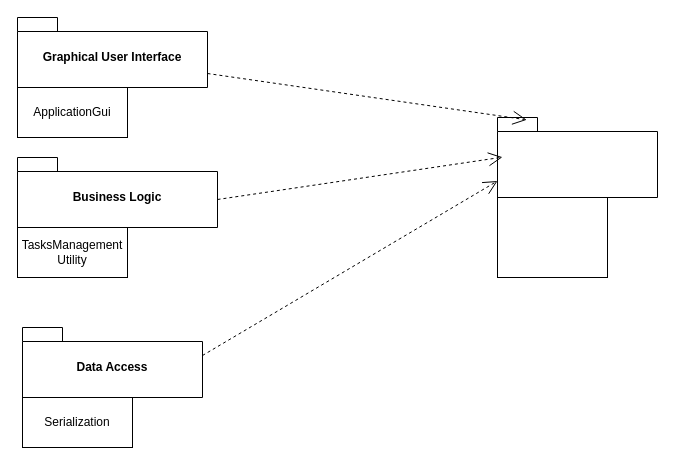
Some shapes in this 675 by 465 pixel diagram are drawn without their labels. The shapes that lost their labels are listed below. From the top down, each one's centre as x and y in pixels, then its label:
(x=577, y=157): Data Model
(x=552, y=237): Employee Task SimpleTask ComplexTask
